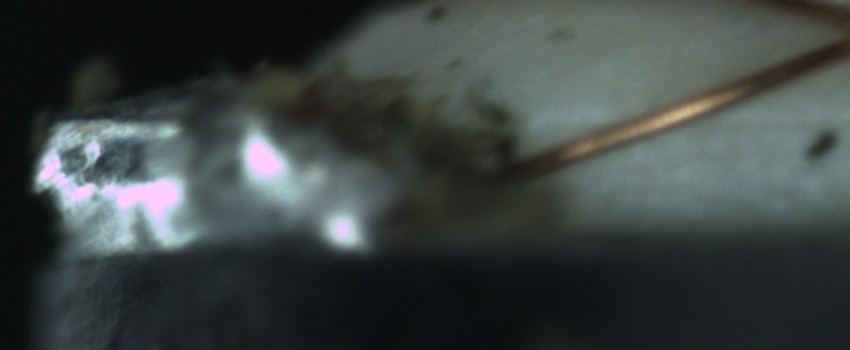DL: (679, 94, 848, 153)
